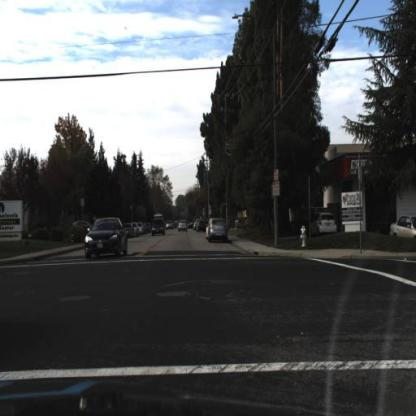car: (82, 211, 132, 265), (388, 209, 416, 249), (203, 215, 230, 246), (313, 208, 340, 239), (64, 213, 94, 234), (148, 214, 168, 240), (71, 216, 98, 235), (175, 217, 190, 238), (126, 219, 138, 240)
